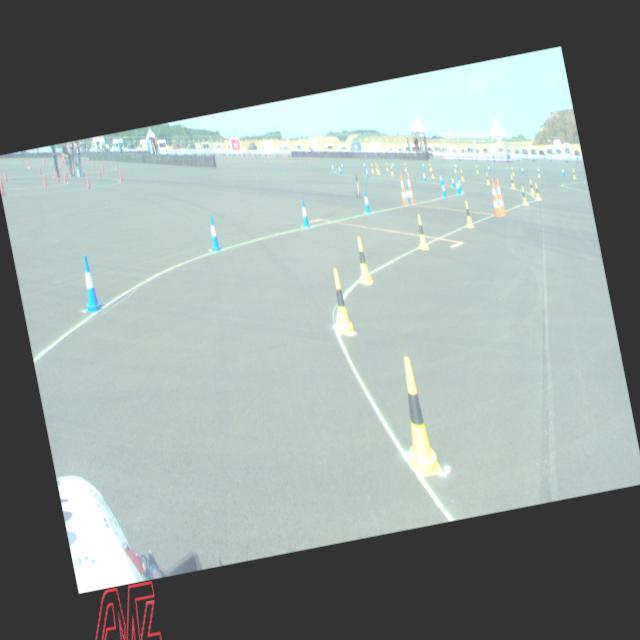blue_cone: (77, 254, 102, 312), (206, 214, 222, 252), (298, 198, 310, 228), (362, 190, 371, 213), (405, 185, 412, 206), (454, 178, 461, 196), (440, 180, 447, 198), (449, 173, 456, 188), (456, 176, 462, 192), (438, 172, 443, 185), (422, 170, 427, 182), (362, 160, 367, 170), (561, 166, 565, 178), (338, 164, 342, 176), (486, 164, 491, 173), (453, 162, 458, 171), (366, 168, 370, 178), (520, 165, 524, 175), (421, 161, 425, 170), (330, 164, 334, 172), (340, 162, 344, 170), (538, 167, 540, 176), (392, 162, 394, 170)
large_orange_cone: (487, 179, 502, 218), (494, 178, 507, 217), (396, 173, 408, 206), (405, 172, 415, 205)
unknown_cone: (85, 176, 92, 188), (62, 172, 68, 184), (118, 170, 124, 182), (0, 181, 5, 195), (43, 174, 48, 187), (0, 176, 4, 189), (55, 170, 59, 182), (100, 162, 104, 172), (4, 172, 8, 182), (38, 166, 42, 174), (98, 168, 101, 177)
yellow_cone: (391, 354, 443, 478), (326, 268, 354, 336), (352, 235, 372, 285), (414, 214, 428, 250), (462, 200, 474, 228), (520, 186, 528, 207), (508, 174, 516, 190), (534, 182, 541, 200), (528, 180, 535, 194), (485, 172, 490, 185), (460, 168, 464, 182), (430, 168, 435, 179), (376, 164, 381, 175), (403, 162, 408, 172), (572, 168, 576, 180), (370, 162, 374, 174), (428, 162, 433, 171), (390, 165, 394, 176), (475, 164, 479, 174), (510, 166, 514, 176), (452, 164, 457, 172), (385, 162, 389, 172), (375, 162, 379, 172), (536, 168, 540, 178)
